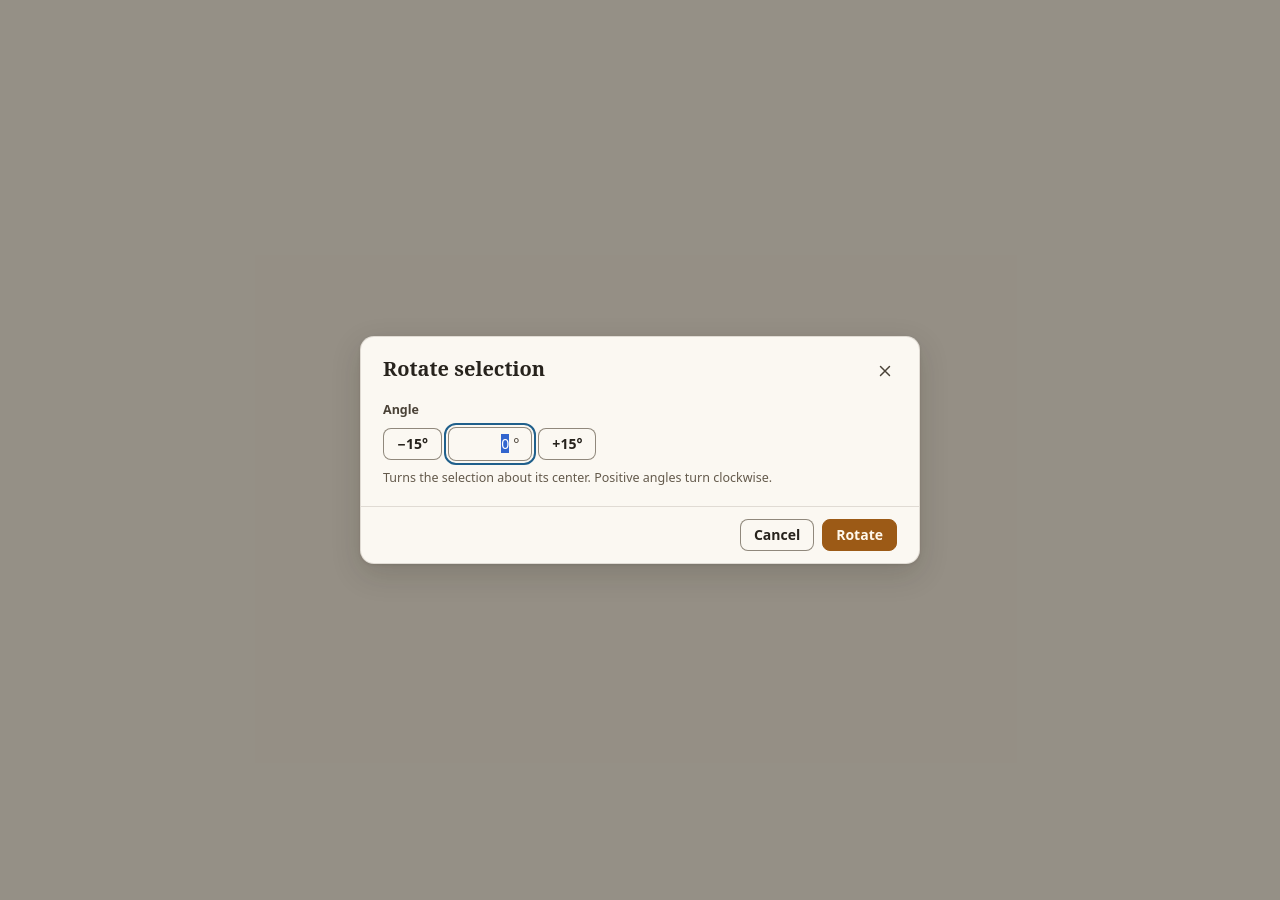
Rotate… dialog › keeps the dialog open and says why when the angle is not a number
Replace the text in the field labelled "Angle" with "ten": (485, 444) [461,434,509,453]
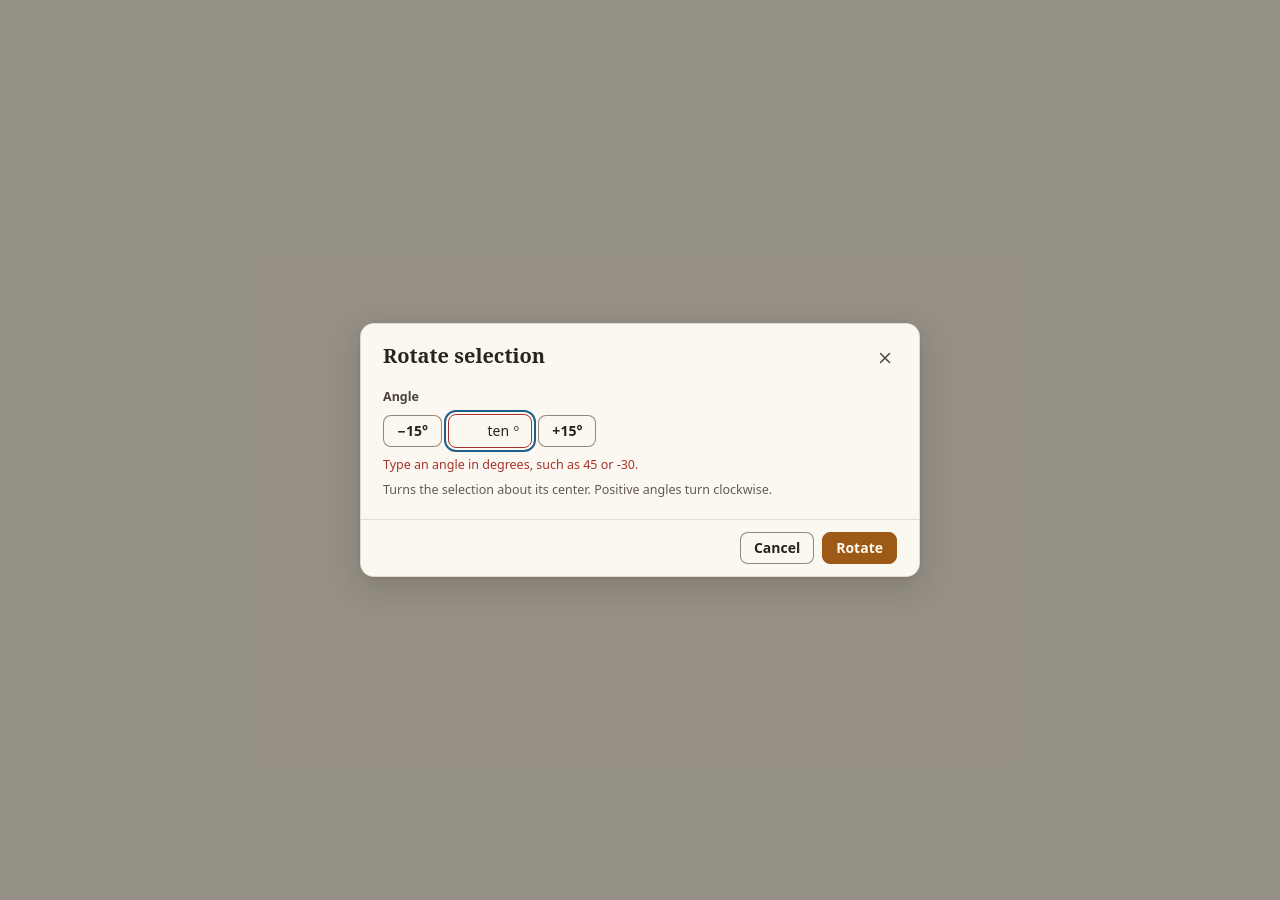
Check: the message "Type an angle in degrees, such as 45 or -30." is shown, box [383,456,638,473]
